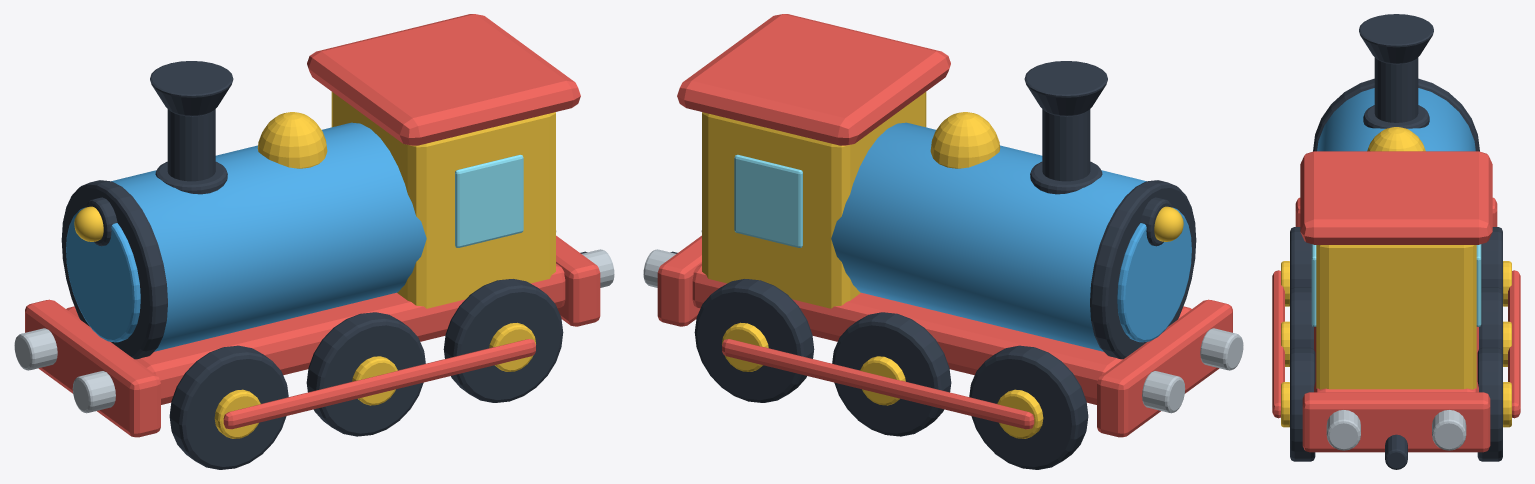
The model's file is locomotive.glb.
3 renders of one model, left to right at view 1: azimuth 30°, elevation 25°; view 2: azimuth 150°, elevation 25°; view 3: azimuth 270°, elevation 25°, orthographic. The views are drawn at different scales.
Visible parts, largest first — view 1: CMP_Train_Boiler, CMP_Train_Cab_Roof, CMP_Train_Cab, CMP_Train_Chassis, CMP_Train_Wheel_1_Right, CMP_Train_Wheel_3_Right, CMP_Train_Wheel_2_Right, CMP_Train_BufferBeam_Front, CMP_Train_Front_Disc, CMP_Train_Smokebox_Front, CMP_Train_ConnectingRod_Right, CMP_Train_Window_Right (+13 smaller); view 2: CMP_Train_Boiler, CMP_Train_Cab_Roof, CMP_Train_Cab, CMP_Train_Chassis, CMP_Train_Wheel_1_Left, CMP_Train_Wheel_3_Left, CMP_Train_Wheel_2_Left, CMP_Train_BufferBeam_Front, CMP_Train_Front_Disc, CMP_Train_Smokebox_Front, CMP_Train_ConnectingRod_Left, CMP_Train_Window_Left (+13 smaller); view 3: CMP_Train_Cab, CMP_Train_Cab_Roof, CMP_Train_BufferBeam_Rear, CMP_Train_Boiler, CMP_Train_Chimney_Cap, CMP_Train_Chimney_Stack, CMP_Train_Wheel_3_Left, CMP_Train_Wheel_3_Right, CMP_Train_ConnectingRod_Left, CMP_Train_ConnectingRod_Right, CMP_Train_Smokebox_Front, CMP_Train_Wheel_2_Left (+18 smaller).
Boxes of the visible parts, bbox=[...] form: CMP_Train_Boiler: bbox=[111, 122, 426, 351]; CMP_Train_Cab_Roof: bbox=[307, 14, 580, 145]; CMP_Train_Cab: bbox=[331, 92, 555, 308]; CMP_Train_Chassis: bbox=[66, 263, 565, 404]; CMP_Train_Wheel_1_Right: bbox=[169, 345, 288, 469]; CMP_Train_Wheel_3_Right: bbox=[443, 279, 563, 402]; CMP_Train_Wheel_2_Right: bbox=[306, 312, 425, 436]; CMP_Train_BufferBeam_Front: bbox=[25, 299, 160, 437]; CMP_Train_Front_Disc: bbox=[66, 207, 140, 342]; CMP_Train_Smokebox_Front: bbox=[61, 180, 167, 359]; CMP_Train_ConnectingRod_Right: bbox=[223, 339, 535, 429]; CMP_Train_Window_Right: bbox=[455, 154, 523, 247]; CMP_Train_Boiler: bbox=[831, 122, 1146, 351]; CMP_Train_Cab_Roof: bbox=[677, 14, 950, 145]; CMP_Train_Cab: bbox=[702, 92, 926, 308]; CMP_Train_Chassis: bbox=[692, 263, 1191, 404]; CMP_Train_Wheel_1_Left: bbox=[969, 345, 1088, 469]; CMP_Train_Wheel_3_Left: bbox=[694, 279, 814, 402]; CMP_Train_Wheel_2_Left: bbox=[832, 312, 951, 436]; CMP_Train_BufferBeam_Front: bbox=[1097, 299, 1232, 437]; CMP_Train_Front_Disc: bbox=[1117, 207, 1191, 342]; CMP_Train_Smokebox_Front: bbox=[1090, 180, 1196, 359]; CMP_Train_ConnectingRod_Left: bbox=[722, 339, 1034, 429]; CMP_Train_Window_Left: bbox=[734, 154, 802, 247]; CMP_Train_Cab: bbox=[1316, 245, 1476, 389]; CMP_Train_Cab_Roof: bbox=[1300, 151, 1492, 244]; CMP_Train_BufferBeam_Rear: bbox=[1302, 392, 1490, 452]; CMP_Train_Boiler: bbox=[1317, 88, 1475, 151]; CMP_Train_Chimney_Cap: bbox=[1359, 14, 1433, 63]; CMP_Train_Chimney_Stack: bbox=[1374, 57, 1418, 122]; CMP_Train_Wheel_3_Left: bbox=[1477, 347, 1502, 461]; CMP_Train_Wheel_3_Right: bbox=[1290, 347, 1315, 461]; CMP_Train_ConnectingRod_Left: bbox=[1508, 270, 1520, 418]; CMP_Train_ConnectingRod_Right: bbox=[1272, 270, 1284, 418]; CMP_Train_Smokebox_Front: bbox=[1313, 78, 1479, 151]; CMP_Train_Wheel_2_Left: bbox=[1479, 287, 1502, 351].
Size of the model in its own units: 4.9 by 3.02 by 2.17.
